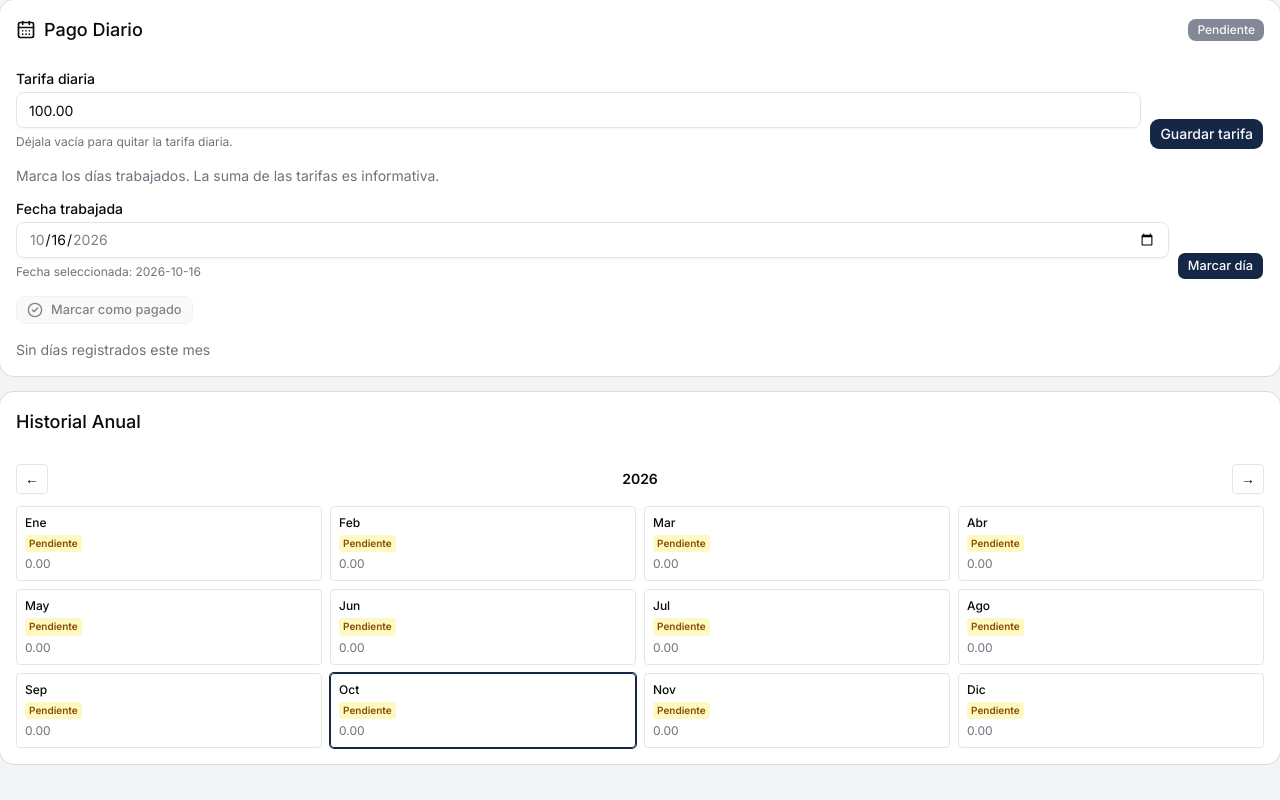
Test: DailyPayPanel › muestra un error cuando el servidor rechaza la tarifa diaria
Replace the text in the number field labelled "Tarifa diaria" with "150": (579, 110) x1=16 y1=92 x2=1141 y2=128
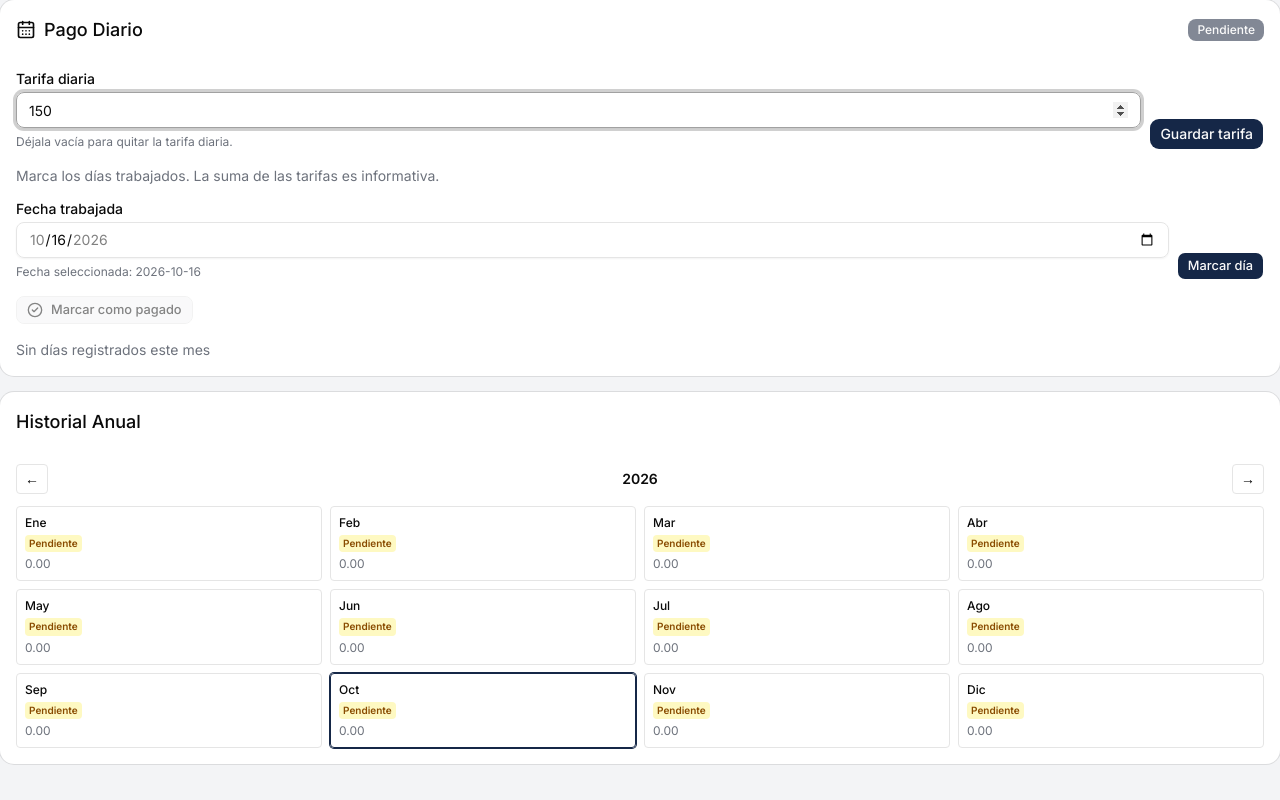
Click the button "Guardar tarifa": (1207, 134) x1=1149 y1=118 x2=1264 y2=150
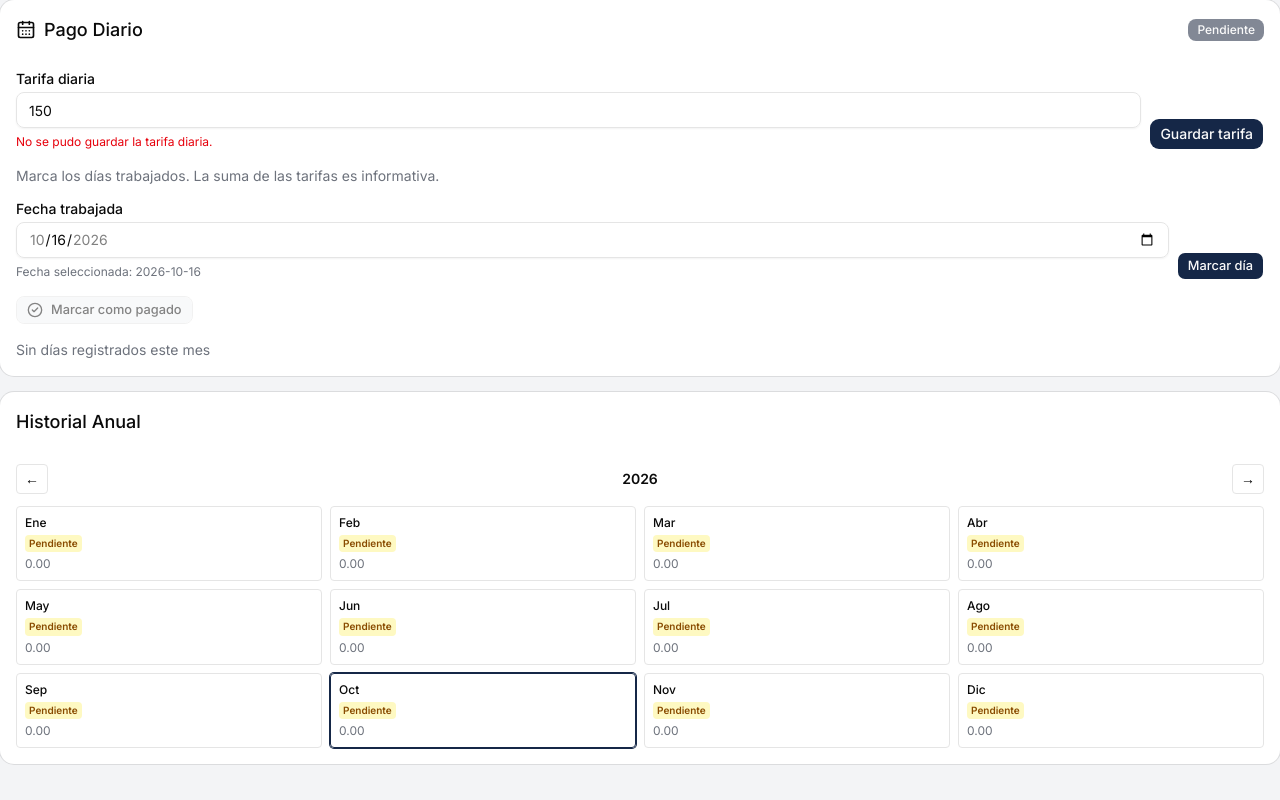
Expected: the text "No se pudo guardar la tarifa diaria." is shown, x1=16 y1=134 x2=212 y2=149
